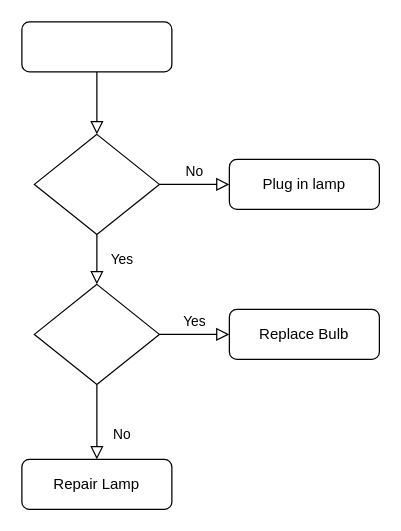
The diagram is 401 pixels wide and 531 high, and some of its shapes have lost their labels. The shapes that lost their labels are listed below. From the top down, each one's centre as x and y in pixels, then its label:
At (x=96, y=46): "Pedimos Informacion".
At (x=96, y=333): "Bulb burned out?".
